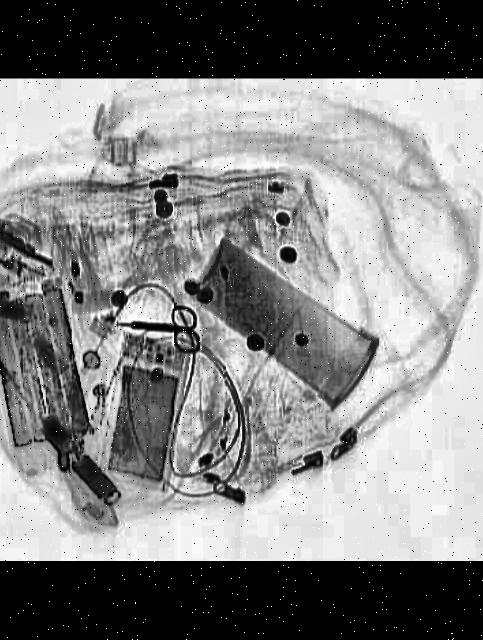Scissors: (115, 299, 204, 352)
